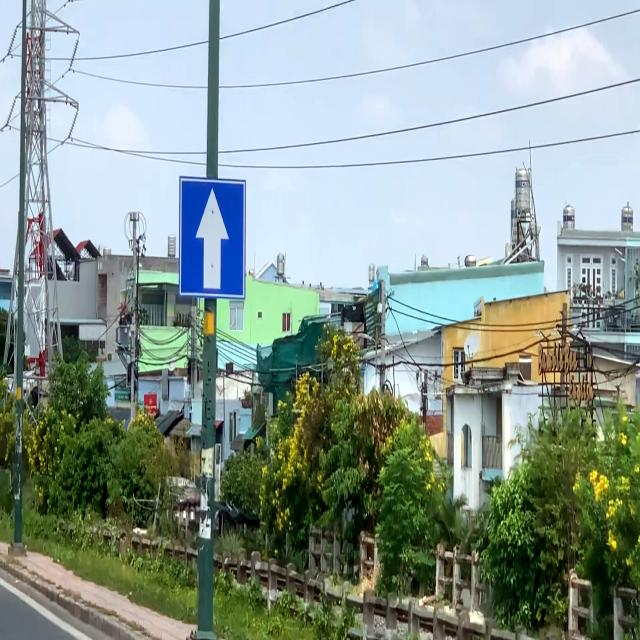R.407a: (179, 172, 245, 303)
